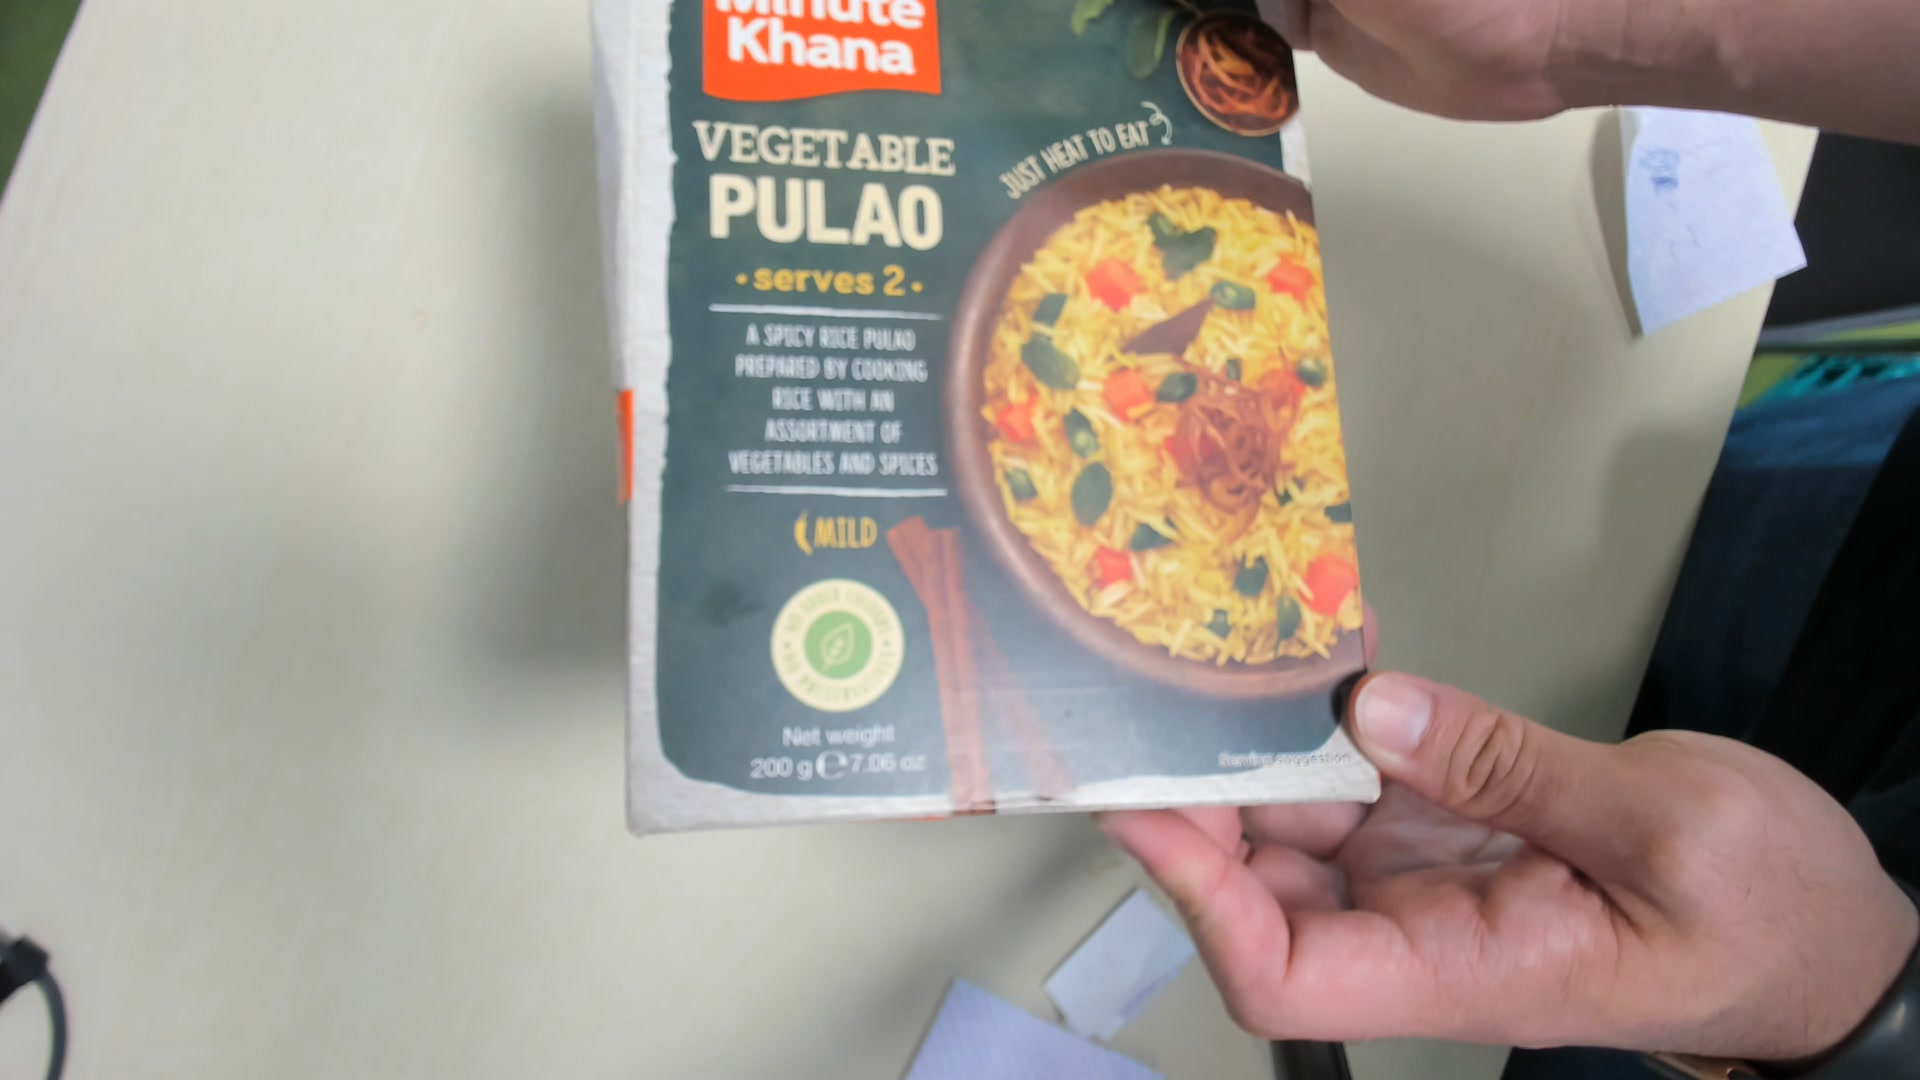InstantMeals_200_299g_NonHalal_NonHealthy: (593, 16, 1389, 798)
